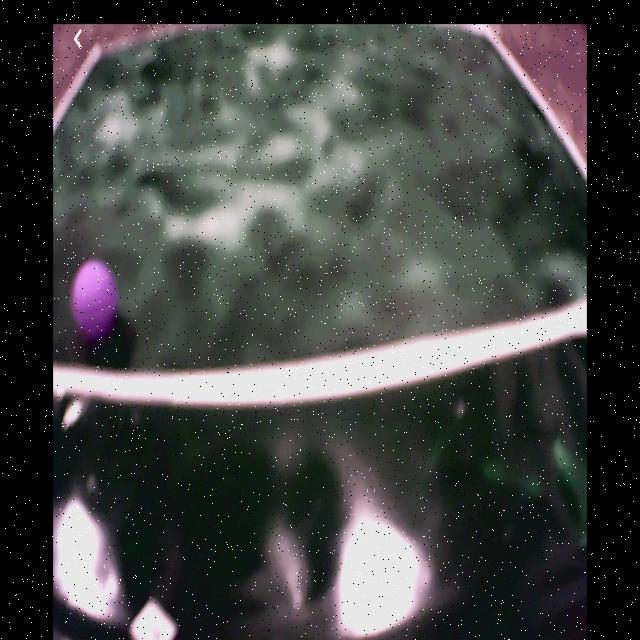ball: (73, 259, 120, 338)
